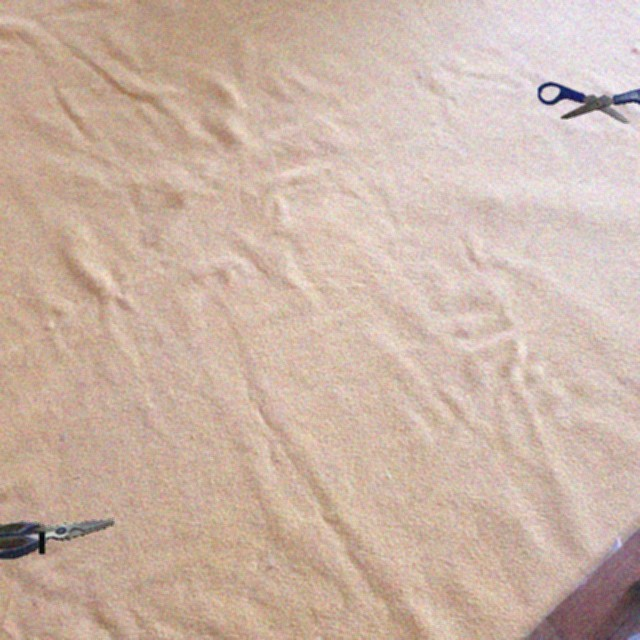scissors: (0, 518, 114, 559), (538, 82, 640, 123)
